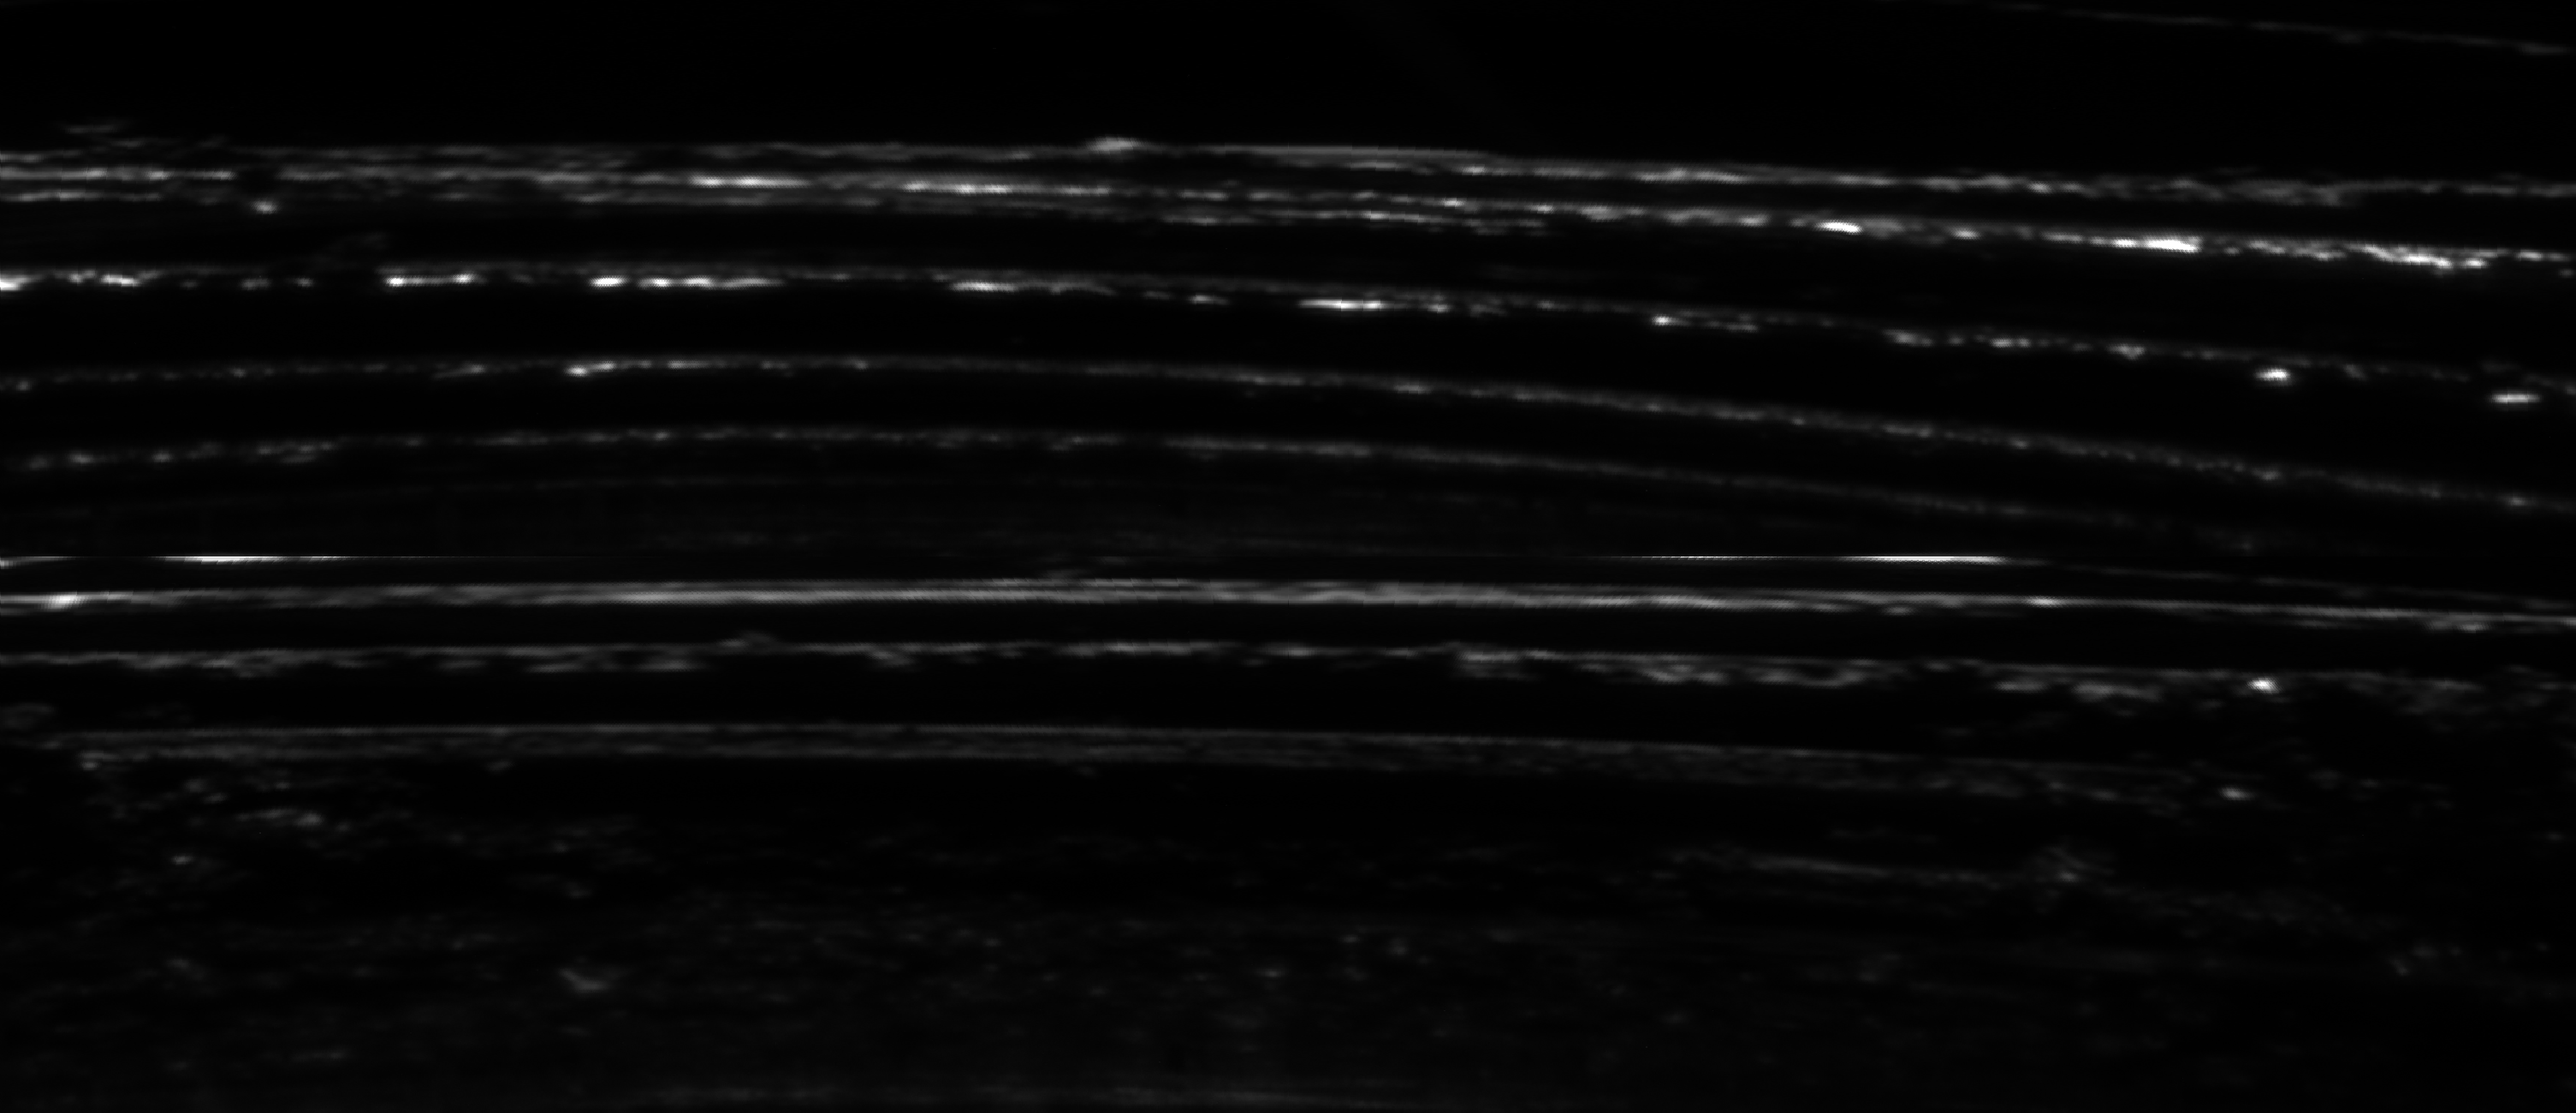chipped: (1822, 291, 2553, 444)
corrosion: (5, 230, 600, 520)
extensive corrosion: (36, 635, 2551, 1077)
